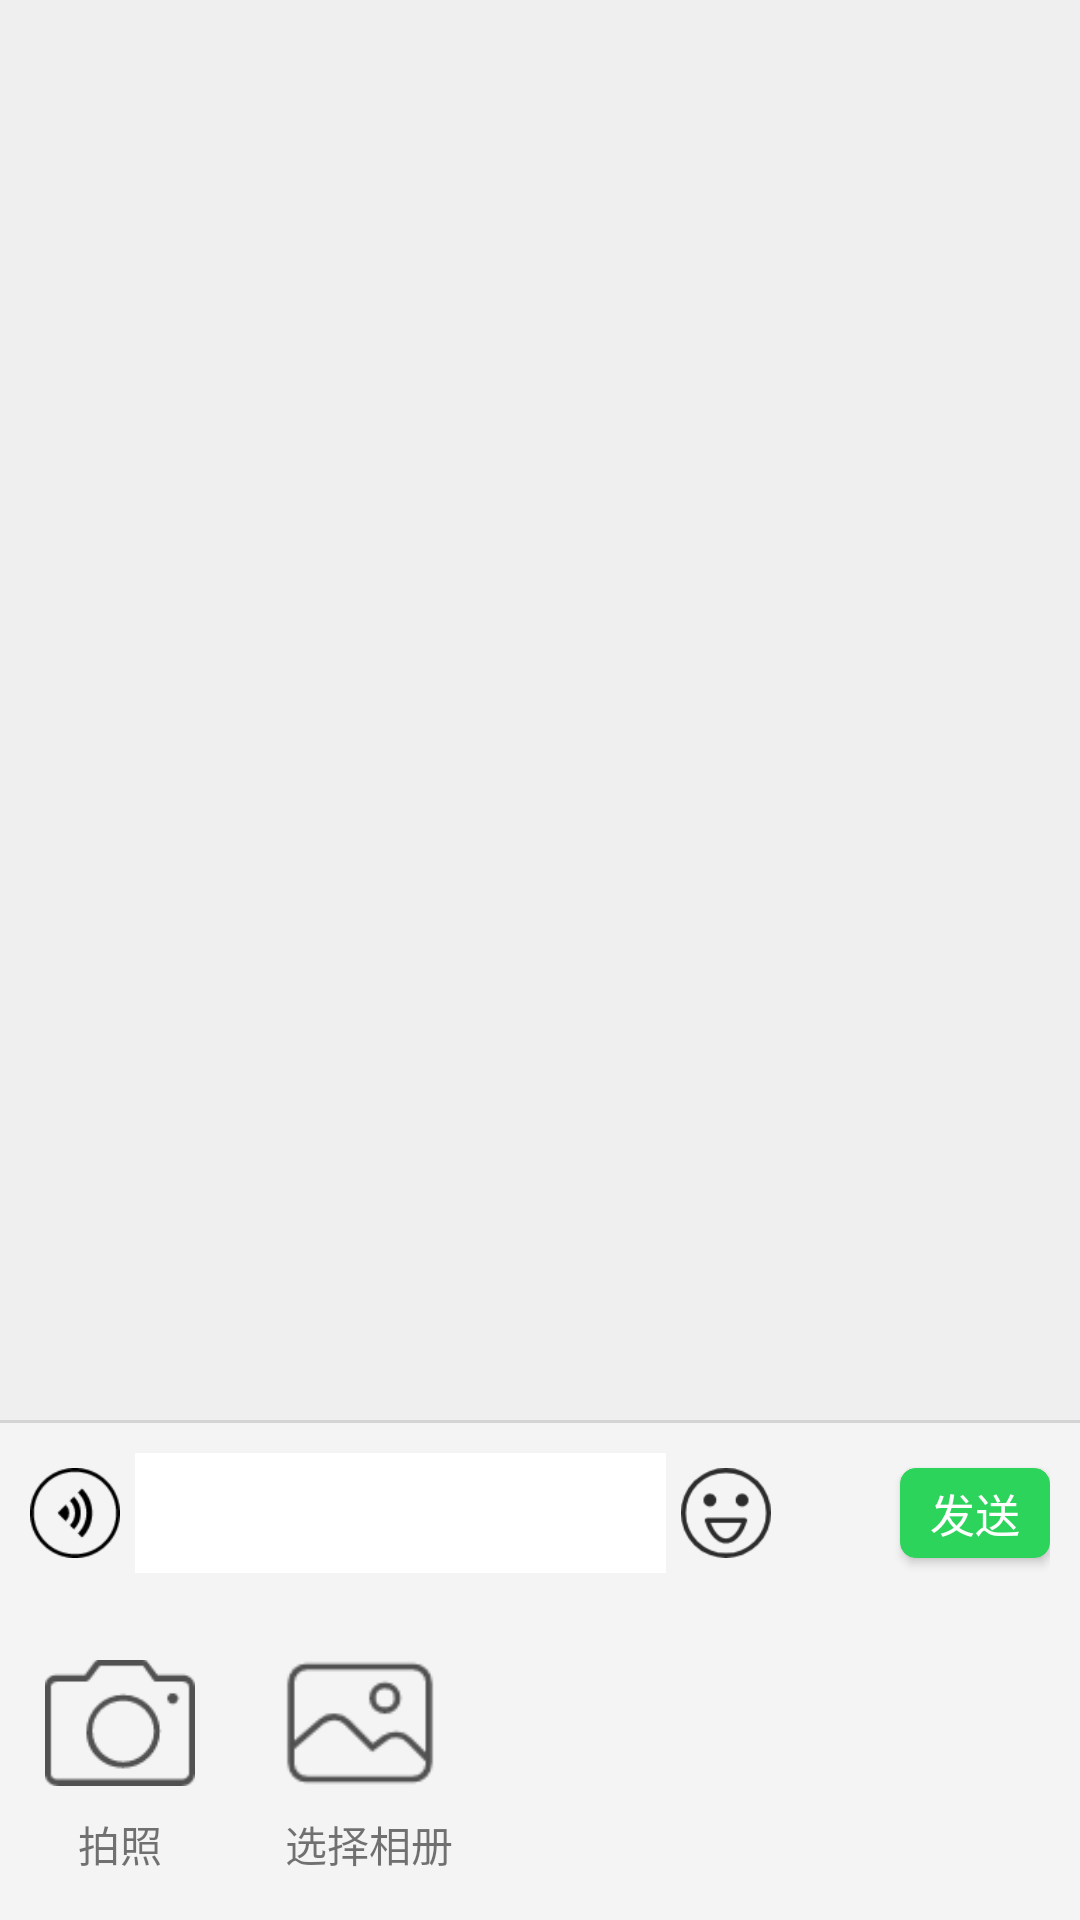

Screen size 1080w x 1920h. Icon name, then its center in pixels as (x=x, y=y):
emoji: (x=726, y=1513)
yuyin: (x=75, y=1513)
